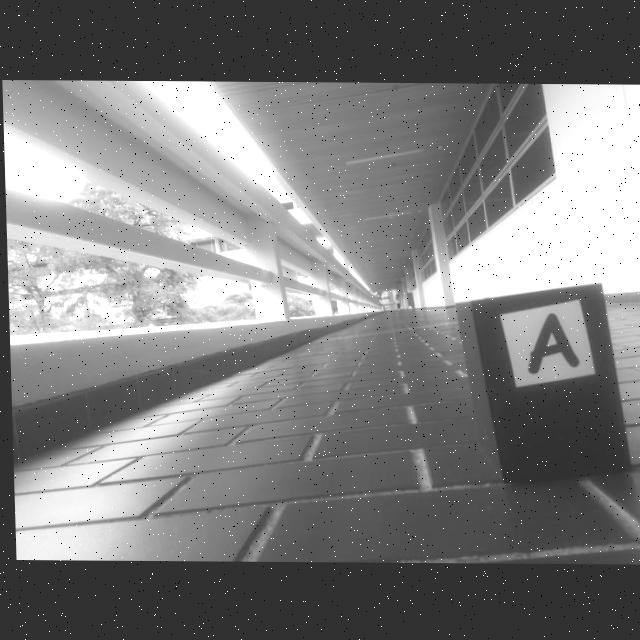A: (526, 311, 577, 374)
